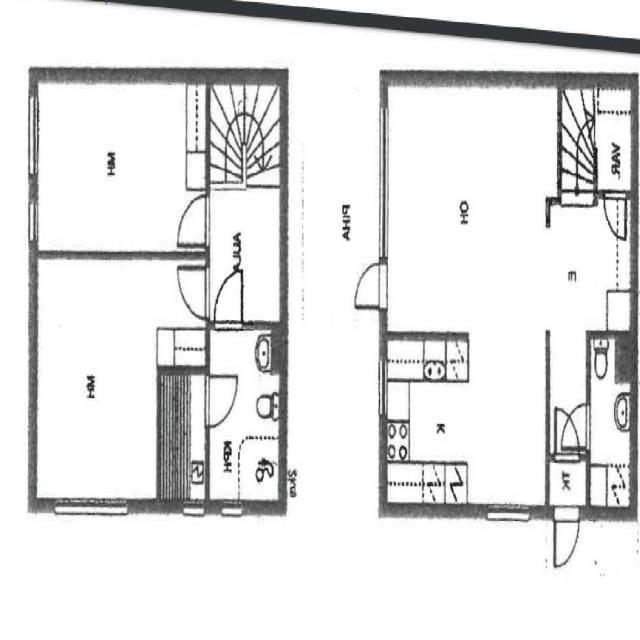door: (177, 195, 210, 247), (205, 376, 238, 427), (177, 267, 210, 318), (215, 270, 242, 330), (354, 262, 387, 308), (555, 504, 579, 562), (561, 404, 591, 450), (555, 408, 579, 460), (605, 190, 626, 238)
